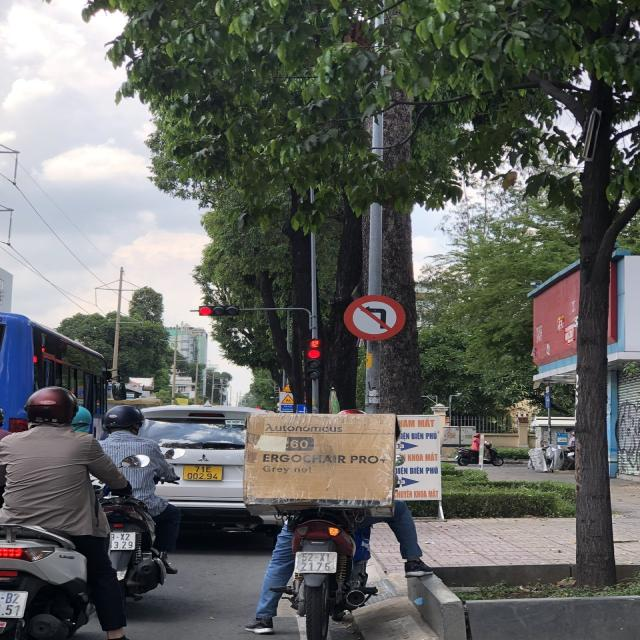Bien bao cam re trai: (338, 292, 408, 341)
